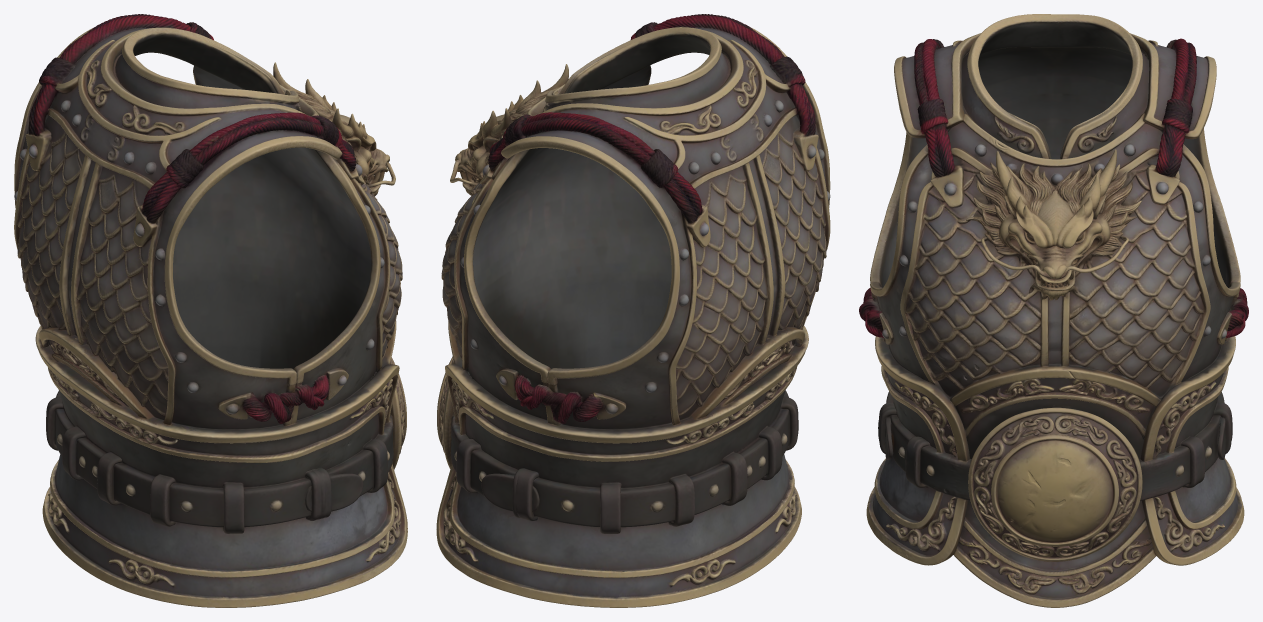
The model's file is tripo_pbr_model_4be07971-68e8-4575-af41-19ee14c70ac3_meshopt_b93479.glb.
The picture shows the model from 3 angles, left to right: view 1: azimuth 30°, elevation 25°; view 2: azimuth 150°, elevation 25°; view 3: azimuth 270°, elevation 25°; orthographic projection. The views are drawn at different scales.
Parts seen in each view (by area): view 1: tripo_node_4be07971-68e8-4575-af41-19ee14c70ac3; view 2: tripo_node_4be07971-68e8-4575-af41-19ee14c70ac3; view 3: tripo_node_4be07971-68e8-4575-af41-19ee14c70ac3.
Boxes of the visible parts, x1=… form: tripo_node_4be07971-68e8-4575-af41-19ee14c70ac3: x1=14, y1=14, x2=407, y2=607; tripo_node_4be07971-68e8-4575-af41-19ee14c70ac3: x1=436, y1=14, x2=830, y2=607; tripo_node_4be07971-68e8-4575-af41-19ee14c70ac3: x1=859, y1=14, x2=1248, y2=607.
Bounding box in the file's own units: 0.6478 × 0.9805 × 0.7092.
1 material, 1 textured.
